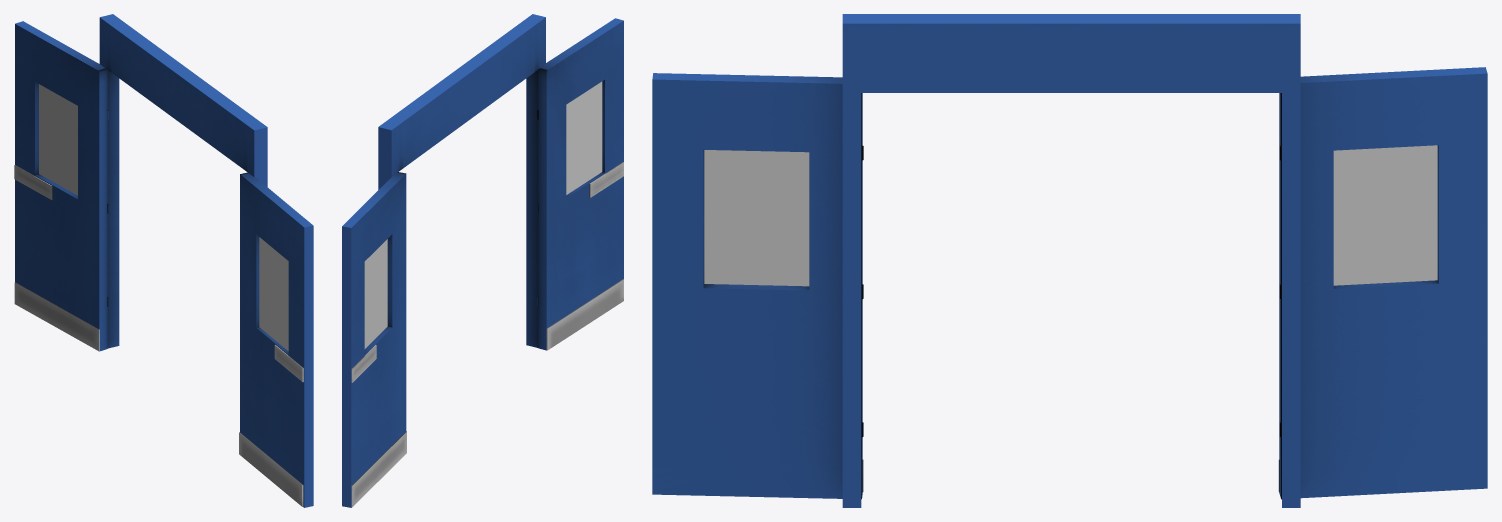
File: Puerta mecanizado.FBX
3 renders of one model, left to right at view 1: azimuth 30°, elevation 25°; view 2: azimuth 150°, elevation 25°; view 3: azimuth 270°, elevation 25°, orthographic. The views are drawn at different scales.
Visible parts, largest first — view 1: Puerta2, Puerta1, Puerta_mecanizado, glass, glass001, Box018, Box020, Box017, Box019; view 2: Puerta1, Puerta2, Puerta_mecanizado, glass001, glass, Box020, Box018, Box019, Box017; view 3: Puerta1, Puerta2, Puerta_mecanizado, glass001, glass.
Boxes of the visible parts, bbox=[...] form: Puerta2: bbox=[15, 21, 108, 351]; Puerta1: bbox=[240, 172, 313, 507]; Puerta_mecanizado: bbox=[99, 14, 267, 348]; glass: bbox=[39, 84, 77, 195]; glass001: bbox=[259, 237, 288, 350]; Box018: bbox=[14, 282, 99, 351]; Box020: bbox=[239, 432, 303, 506]; Box017: bbox=[14, 165, 52, 199]; Box019: bbox=[274, 345, 303, 381]; Puerta1: bbox=[537, 18, 623, 350]; Puerta2: bbox=[342, 172, 406, 507]; Puerta_mecanizado: bbox=[378, 14, 545, 347]; glass001: bbox=[566, 81, 602, 194]; glass: bbox=[364, 239, 387, 348]; Box020: bbox=[546, 279, 623, 350]; Box018: bbox=[351, 431, 406, 507]; Box019: bbox=[589, 162, 623, 197]; Box017: bbox=[351, 345, 376, 382]; Puerta1: bbox=[652, 73, 863, 499]; Puerta2: bbox=[1279, 67, 1487, 499]; Puerta_mecanizado: bbox=[842, 14, 1300, 507]; glass001: bbox=[704, 150, 809, 286]; glass: bbox=[1333, 145, 1437, 285].
Bounding box in the file's own units: 40.7 × 350 × 547.
Materials: 1 (1 with a texture image).
